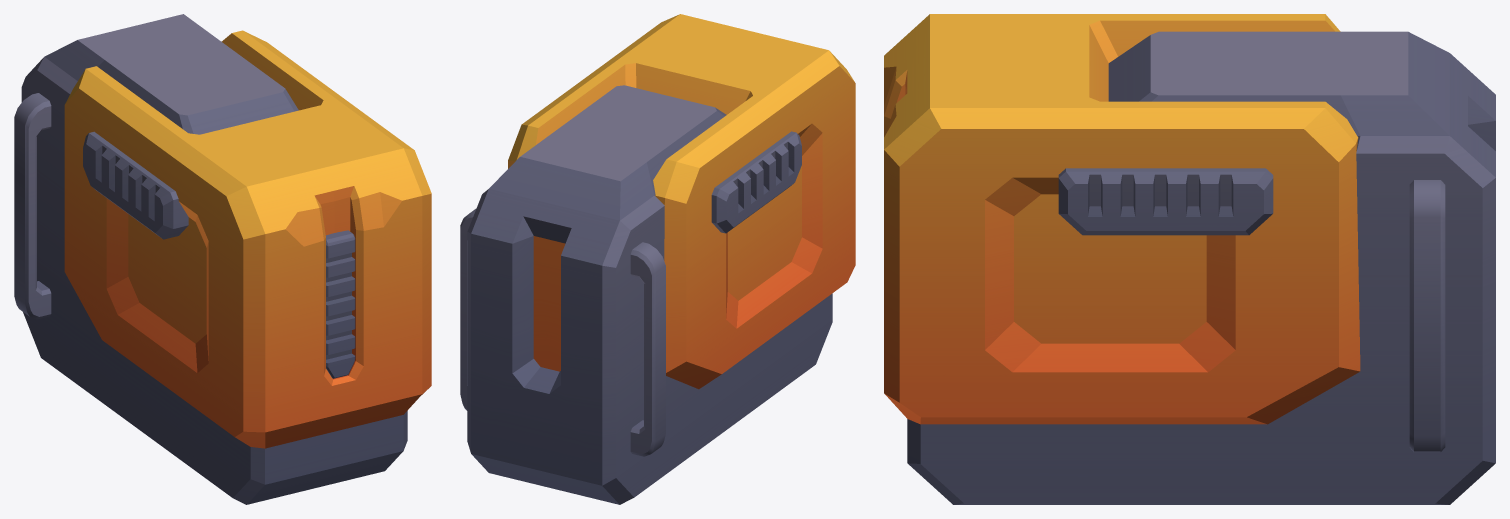
Rendered from AmmoBox С.fbx.
3 views of the same model, side by side, from view 1: azimuth 30°, elevation 25°; view 2: azimuth 150°, elevation 25°; view 3: azimuth 270°, elevation 25° (orthographic). The views are drawn at different scales.
Parts seen in each view (by area): view 1: Ammo Box С.001, Ammo Box С; view 2: Ammo Box С, Ammo Box С.001; view 3: Ammo Box С.001, Ammo Box С.
Part boxes in pixels (x1,y1,x2,y2): Ammo Box С.001: (64, 30, 431, 448); Ammo Box С: (14, 14, 407, 504); Ammo Box С: (460, 85, 832, 504); Ammo Box С.001: (508, 14, 855, 389); Ammo Box С.001: (884, 14, 1360, 424); Ammo Box С: (907, 31, 1495, 504).
Size of the model in its own units: 0.2588 by 0.3817 by 0.526.
